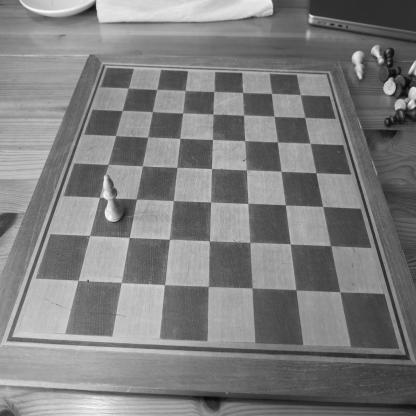black-pawn: (384, 108, 406, 128), (384, 47, 394, 68)
white-bishop: (102, 173, 124, 222), (351, 50, 366, 81)
white-pawn: (370, 44, 385, 66)
